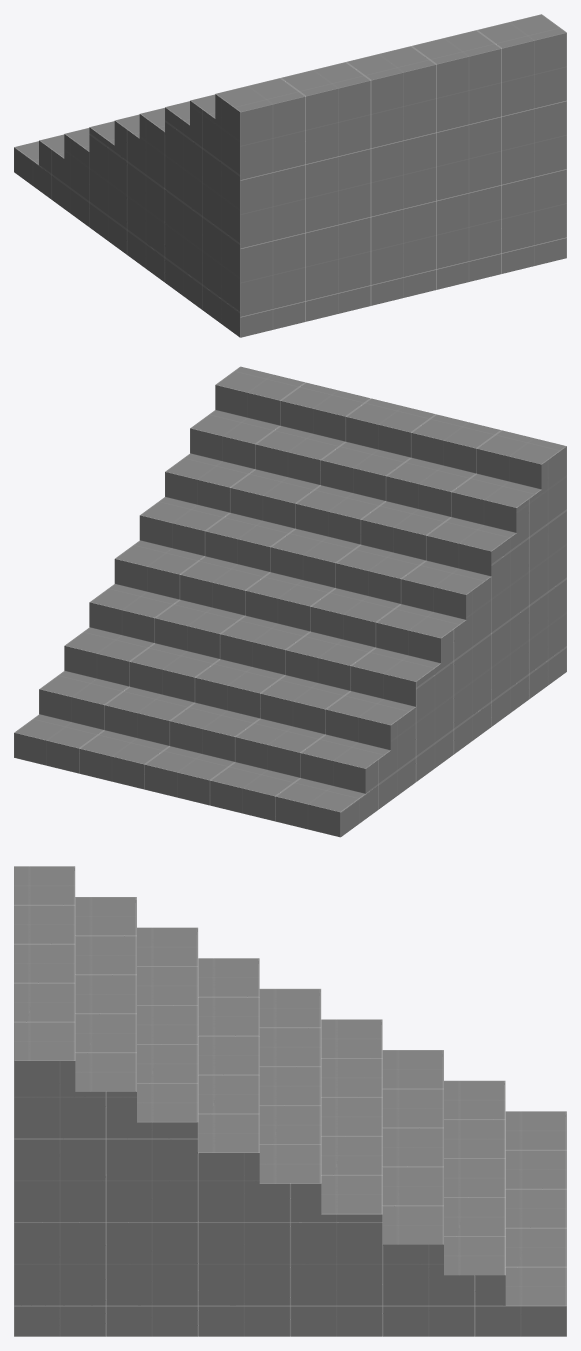
The model's file is Stairs_Box_Big.fbx.
The picture shows the model from 3 angles, top to bottom: view 1: azimuth 30°, elevation 25°; view 2: azimuth 150°, elevation 25°; view 3: azimuth 270°, elevation 25°; orthographic projection. The views are drawn at different scales.
Parts seen in each view (by area): view 1: Stairs_Box_Big; view 2: Stairs_Box_Big; view 3: Stairs_Box_Big.
Boxes of the visible parts, x1,y1,x2,y2 form: Stairs_Box_Big: [14, 14, 566, 337]; Stairs_Box_Big: [14, 366, 566, 837]; Stairs_Box_Big: [14, 866, 566, 1336].
Size of the model in its own units: 7.39 by 4.88 by 8.87.
